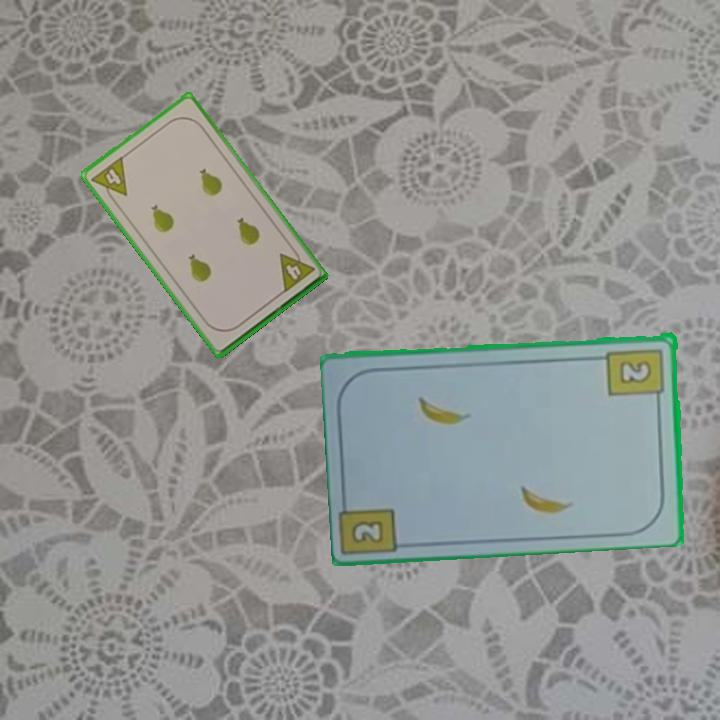2b: (604, 344, 668, 406), (347, 516, 387, 547)
4p: (87, 152, 130, 207), (275, 243, 317, 296)
